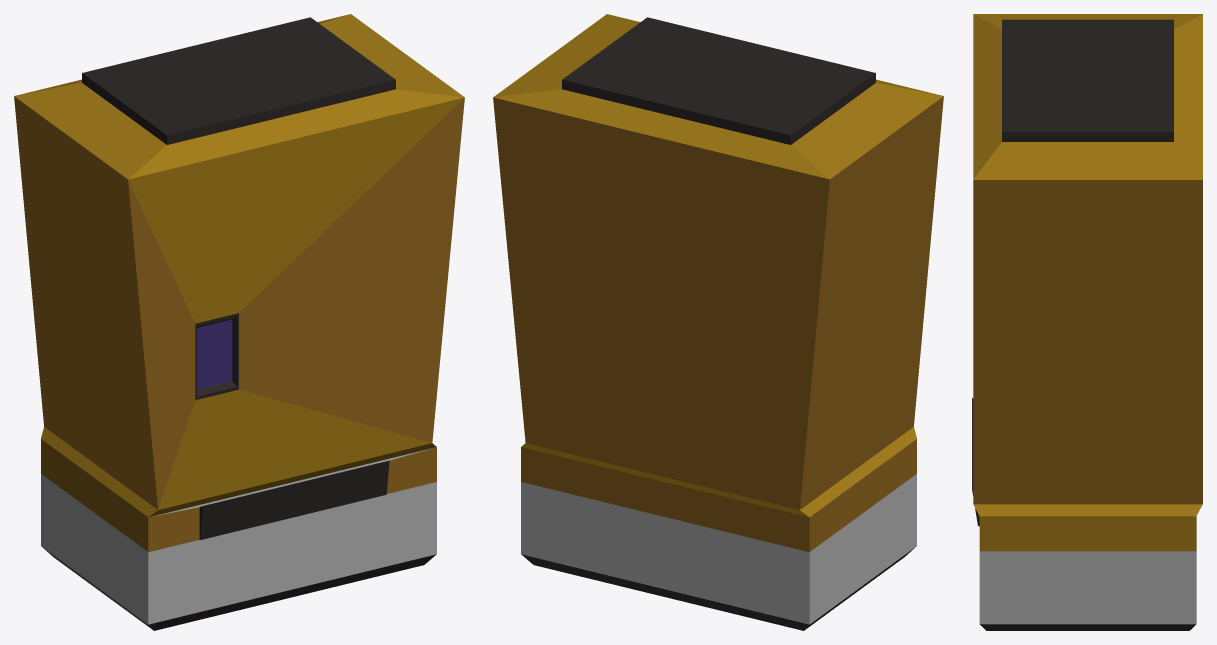
File: Orange_VendingMachine.fbx
The picture shows the model from 3 angles, left to right: view 1: azimuth 30°, elevation 25°; view 2: azimuth 150°, elevation 25°; view 3: azimuth 270°, elevation 25°; orthographic projection.
Visible parts, largest first — view 1: pCube1; view 2: pCube1; view 3: pCube1.
Part boxes in pixels (x1=…): pCube1: x1=14, y1=14, x2=464, y2=630; pCube1: x1=493, y1=14, x2=943, y2=630; pCube1: x1=972, y1=14, x2=1202, y2=630.
Bounding box in the file's own units: 14.07 × 19.35 × 8.29.
